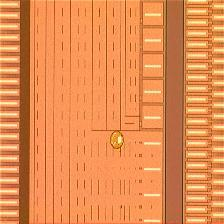PARTICLE: (109, 129, 126, 152)
